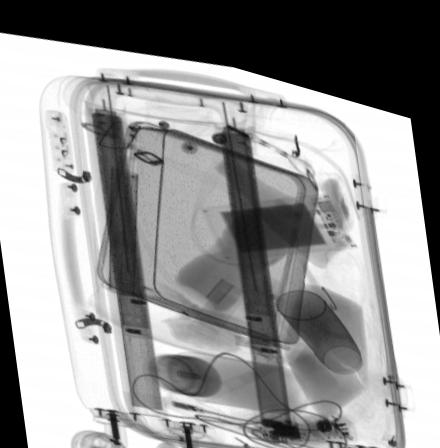Powerbank: (201, 175, 359, 248)
